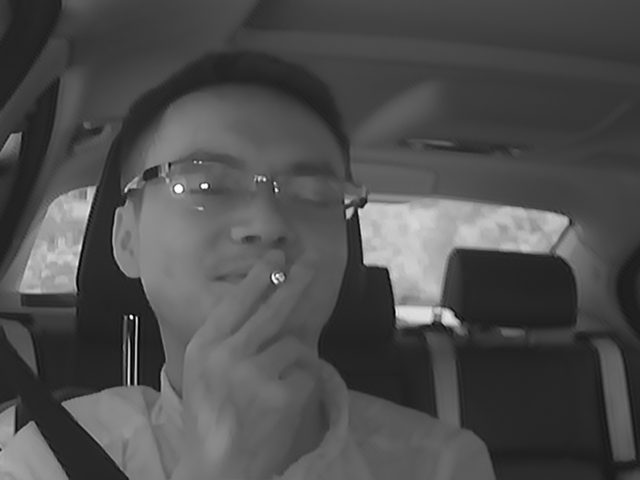hand: (188, 251, 322, 417)
